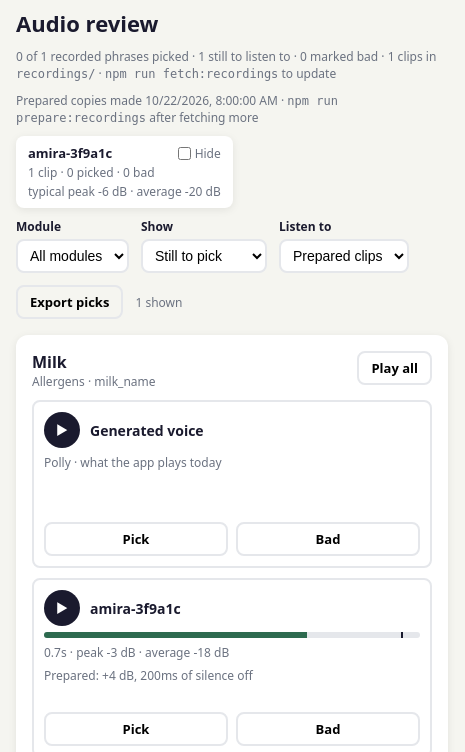
Test: ReviewPage › picks a recording, saves it, and takes the phrase off the list to pick
Expected: the text "Milk" is shown, [32,351,67,373]
Click the button with aria-label "Pick amira-3f9a1c": (136, 729) [44,712,228,746]
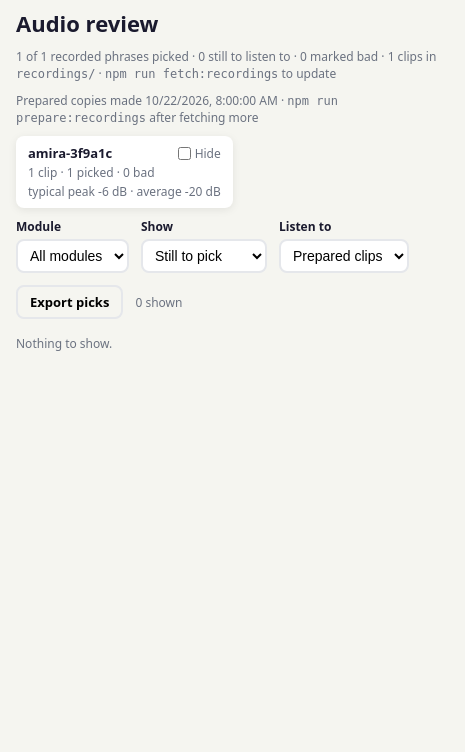
Expected: the text "1 of 1 recorded phrases picked" is shown, [16,48,448,82]
Expected: the text "Milk" is gone
Select "Picked" in the dropdown labelled "Show": (204, 256) [141,239,267,273]
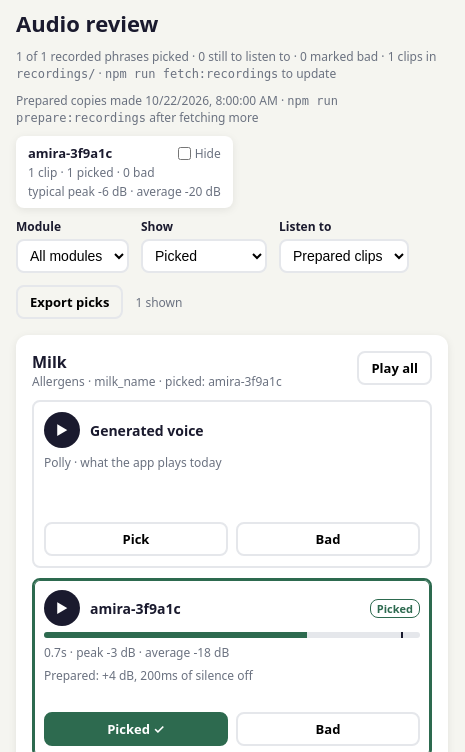
Expected: the text "Milk" is shown, [32,351,67,373]
Expected: the button "Picked ✓" is shown, [44,712,228,746]
Expected: the text "Allergens · milk_name · picked: amira-3f9a1c" is shown, [32,373,282,390]
